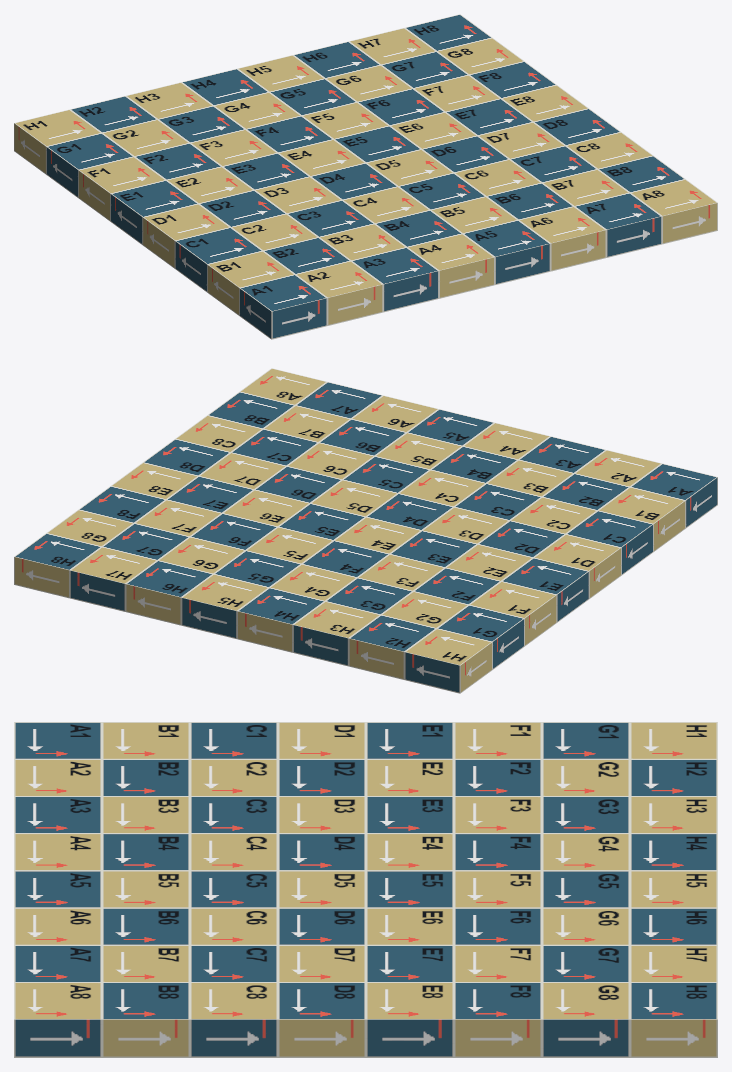
Rendered from CEILING_Grid_2x2.fbx.
3 renders of one model, top to bottom at view 1: azimuth 30°, elevation 25°; view 2: azimuth 150°, elevation 25°; view 3: azimuth 270°, elevation 25°, orthographic. The views are drawn at different scales.
Parts seen in each view (by area): view 1: CEILING_Grid_2x2; view 2: CEILING_Grid_2x2; view 3: CEILING_Grid_2x2.
Boxes of the visible parts, left/top/right/bottom form: CEILING_Grid_2x2: left=14, top=14, right=717, bottom=339; CEILING_Grid_2x2: left=14, top=368, right=717, bottom=693; CEILING_Grid_2x2: left=14, top=722, right=717, bottom=1057.
Size of the model in its own units: 200 by 12 by 200.
Materials: 1 (1 with a texture image).
